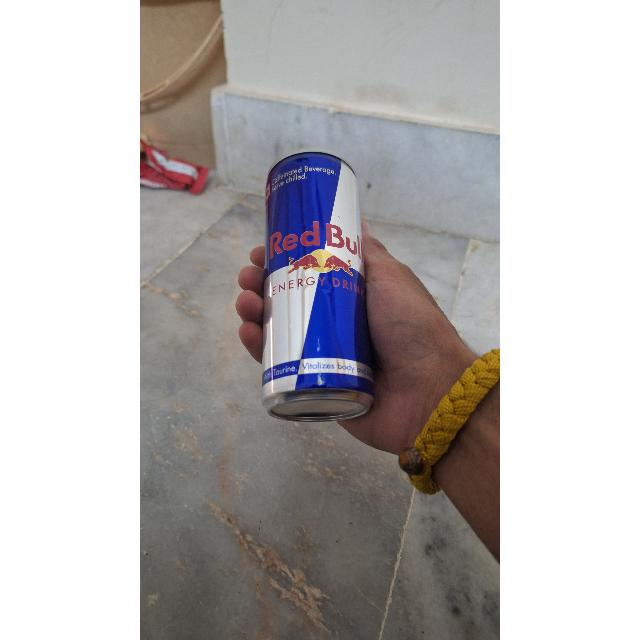Redbull: (255, 152, 382, 426)
